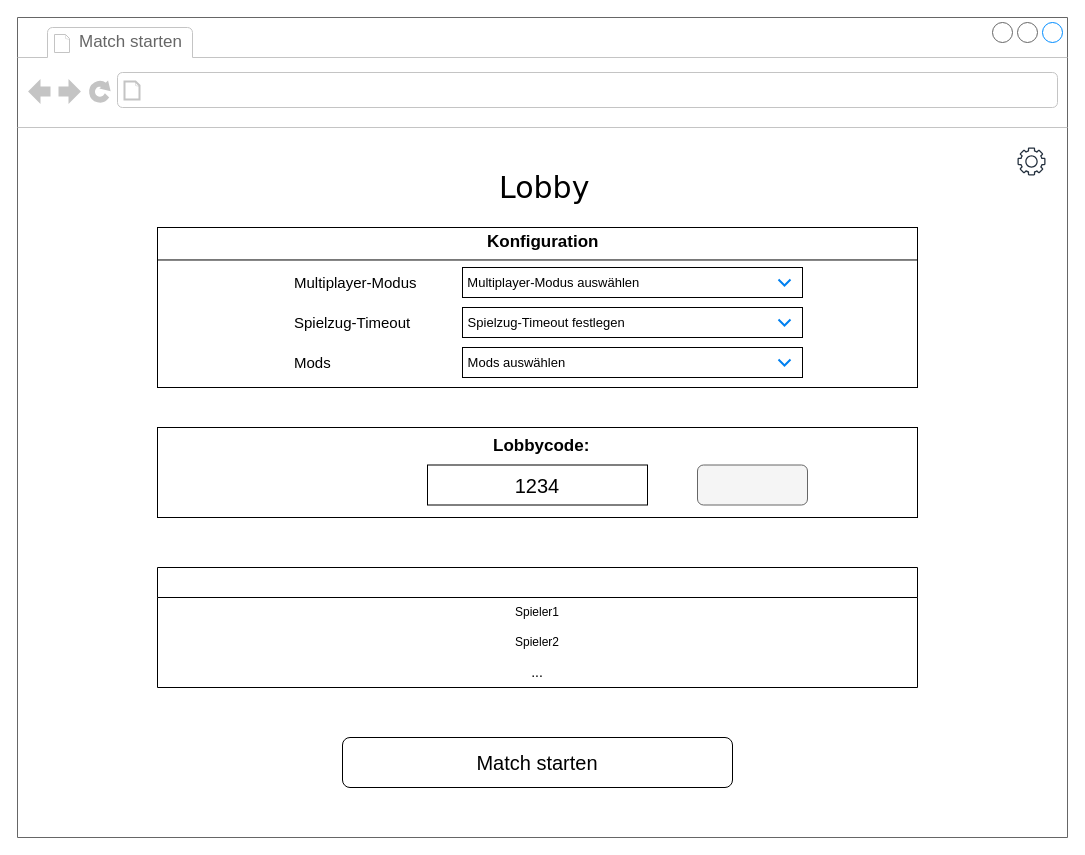
Image size: 1085x855. Some labels were removed from this diagram. Here are the shapes that lost their labels. From the top down, the box of each, then its label:
(146, 76, 398, 104): https://hexfields-studio.github.io/HexfieldsDominion/lobby/[lobby_id]
(696, 464, 808, 505): Code kopieren
(156, 566, 918, 688): Beigetretene Spieler
